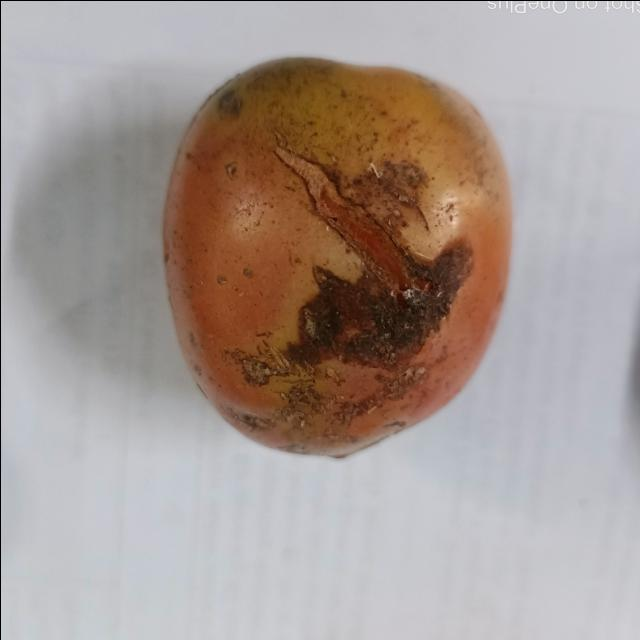tomato_cracking: (265, 248, 473, 377), (263, 134, 417, 275)
